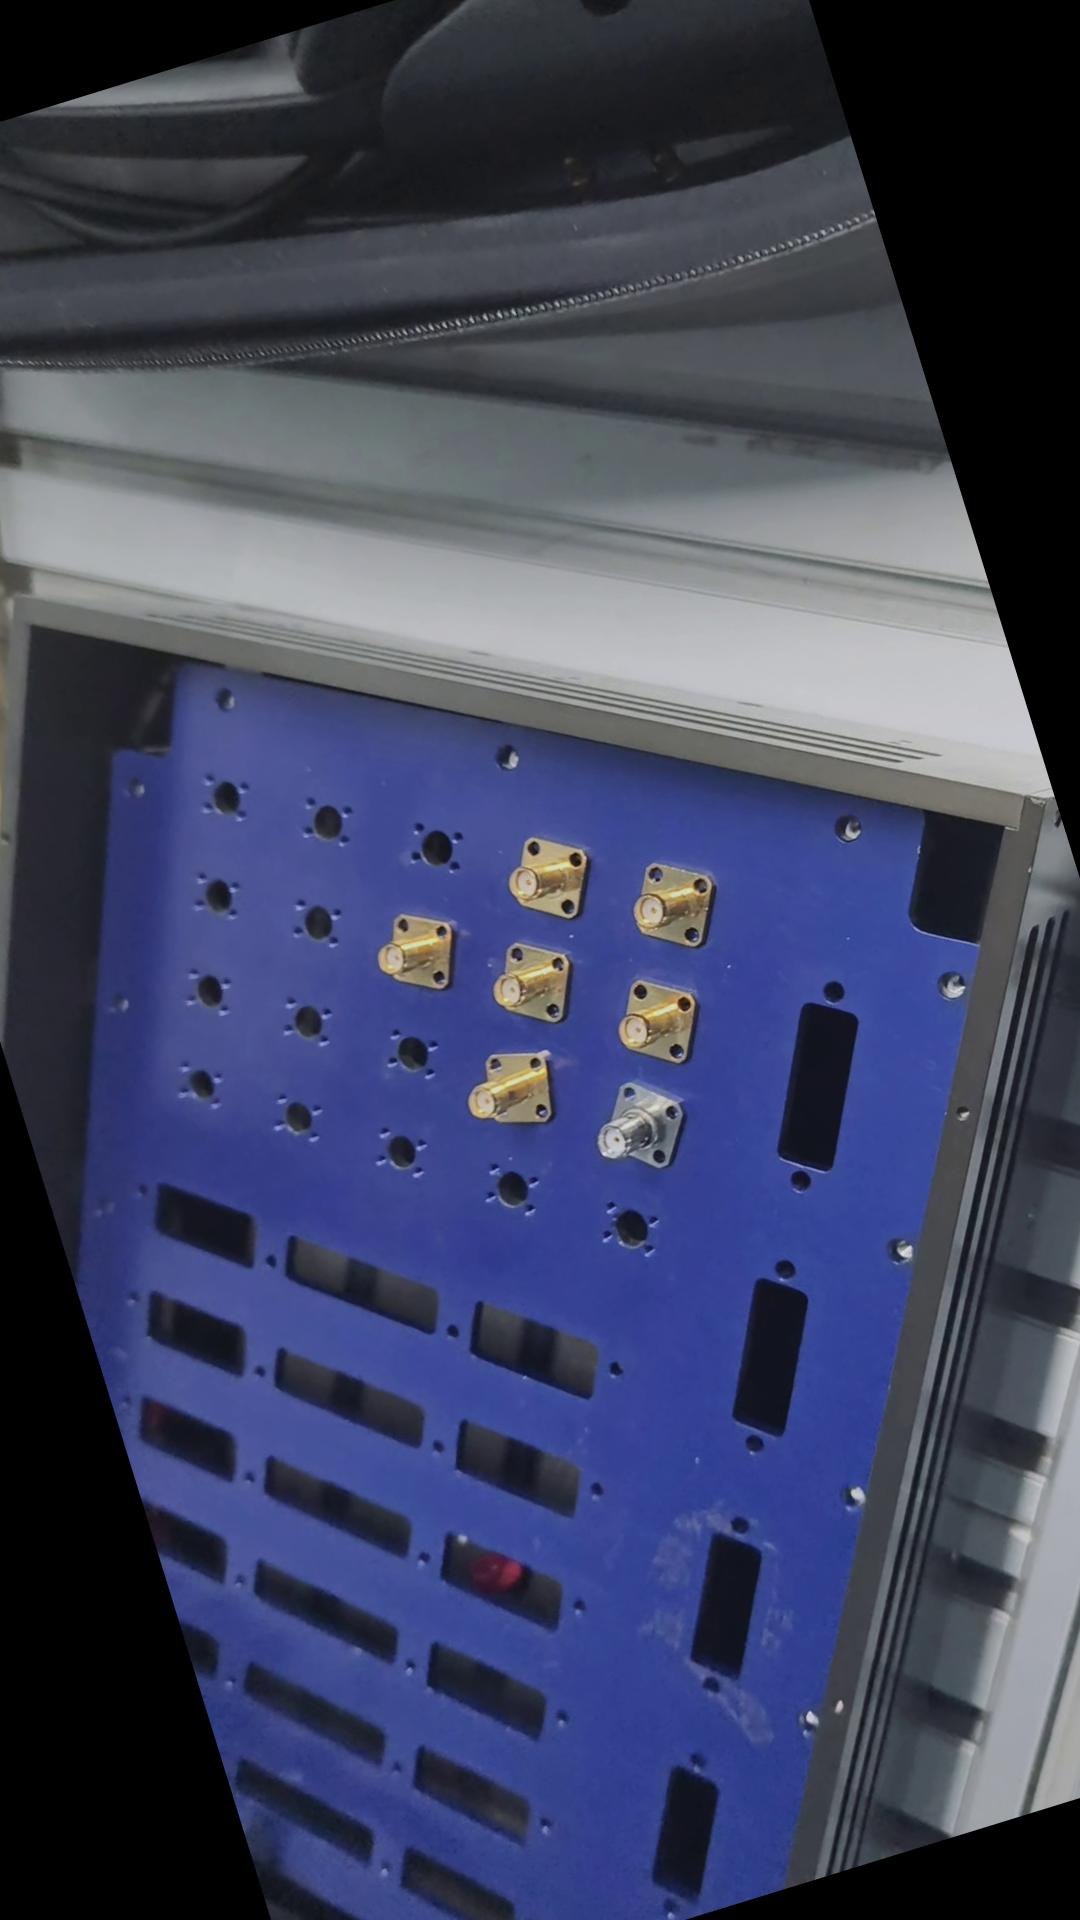SMA: (578, 1060, 704, 1188), (615, 836, 738, 963), (591, 957, 716, 1081), (472, 927, 589, 1043), (489, 822, 599, 931), (363, 899, 471, 1010), (460, 1040, 564, 1139)
